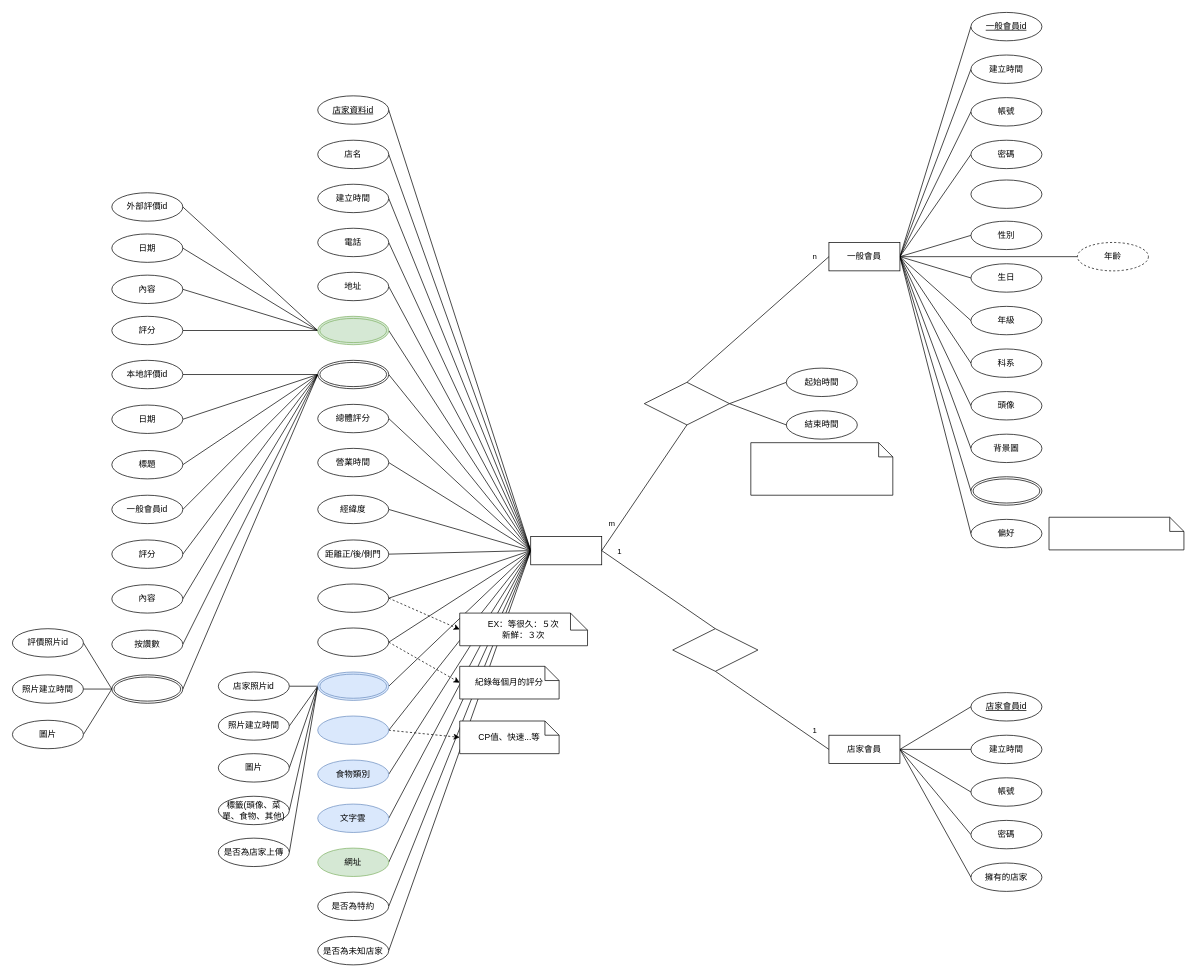
This 1196x978 diagram has some shape labels left out. The centre of each missing label's shape, as x and y in pixels:
"偏好：存使用者的推薦內容" goes at point (1116, 533).
"外部評價" goes at point (353, 330).
"姓名" goes at point (1006, 193).
"店家照片" goes at point (353, 685).
"店家資料" goes at point (566, 550).
"收藏" goes at point (1006, 490).
"本地評價" goes at point (353, 374).
"瀏覽" goes at point (687, 403).
"特別標籤" goes at point (353, 729).
"管理" goes at point (715, 649).
"總體評分紀錄" goes at point (353, 641).
"評價照片" goes at point (147, 688).
"起始時間：點進畫面的時間 結束時間：離開畫面的時間 可以用來計算瀏覽時間， 特定時間以上才算有效" goes at point (821, 468).
"關鍵字頻率" goes at point (353, 597).
